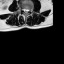CCS_normal: (25, 6, 26, 15)
LFS_normal: (28, 6, 30, 13)
LLS_normal: (26, 7, 28, 13)
RFS_normal: (21, 6, 23, 12)
RLS_normal: (23, 7, 25, 13)
